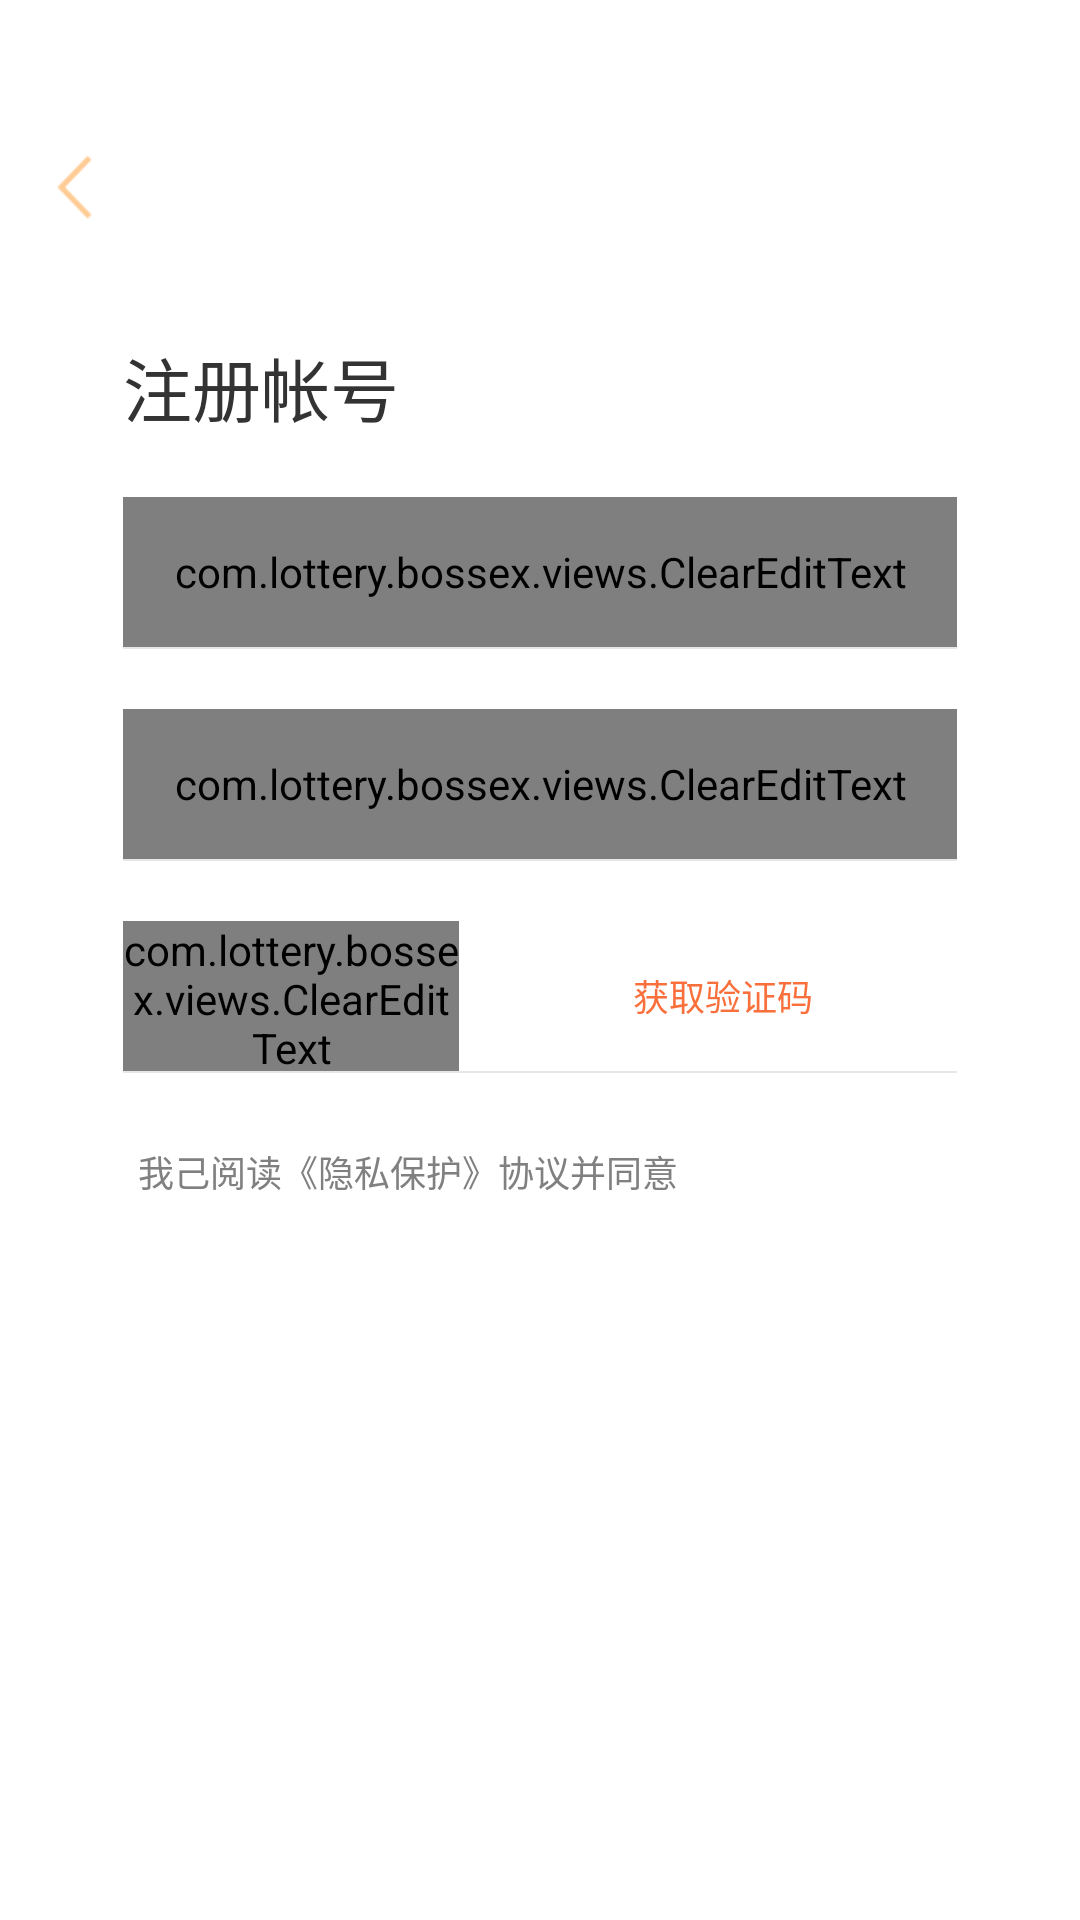

Icons on this 1080px×1920px Android screen, each with its box as (x1, y1, x2, y2):
left back: (57, 156, 92, 219)
